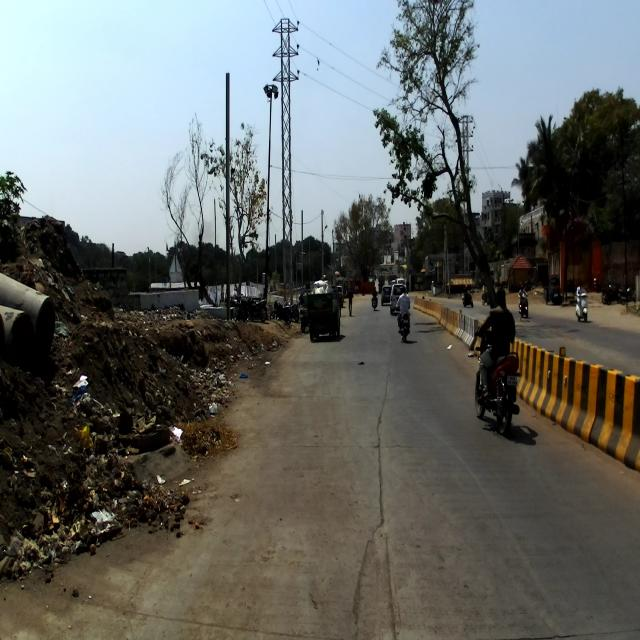high: (346, 278, 355, 315)
